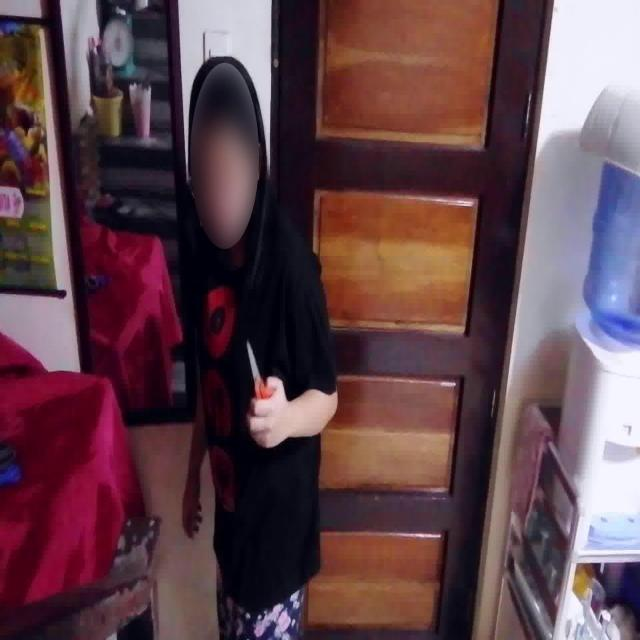scissor: (247, 337, 274, 400)
